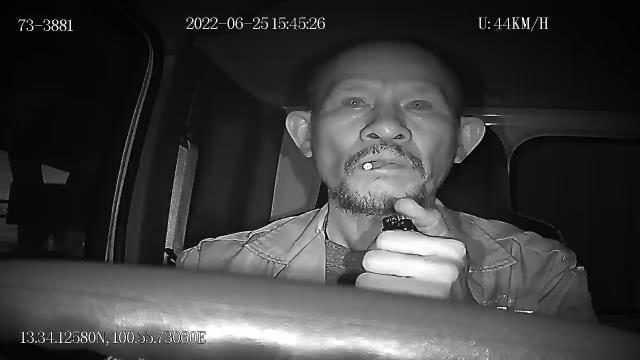SafeDriving: (332, 85, 376, 120), (398, 90, 438, 119)
Smoking: (362, 160, 390, 170)
